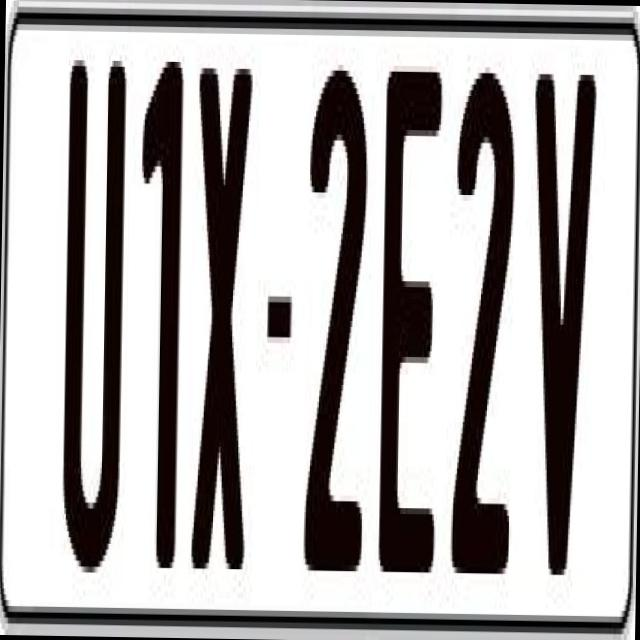1: (135, 43, 187, 574)
2: (302, 58, 376, 595), (447, 72, 515, 591)
E: (376, 71, 449, 584)
U: (59, 42, 134, 567)
V: (525, 68, 605, 587)
X: (190, 68, 256, 575)
